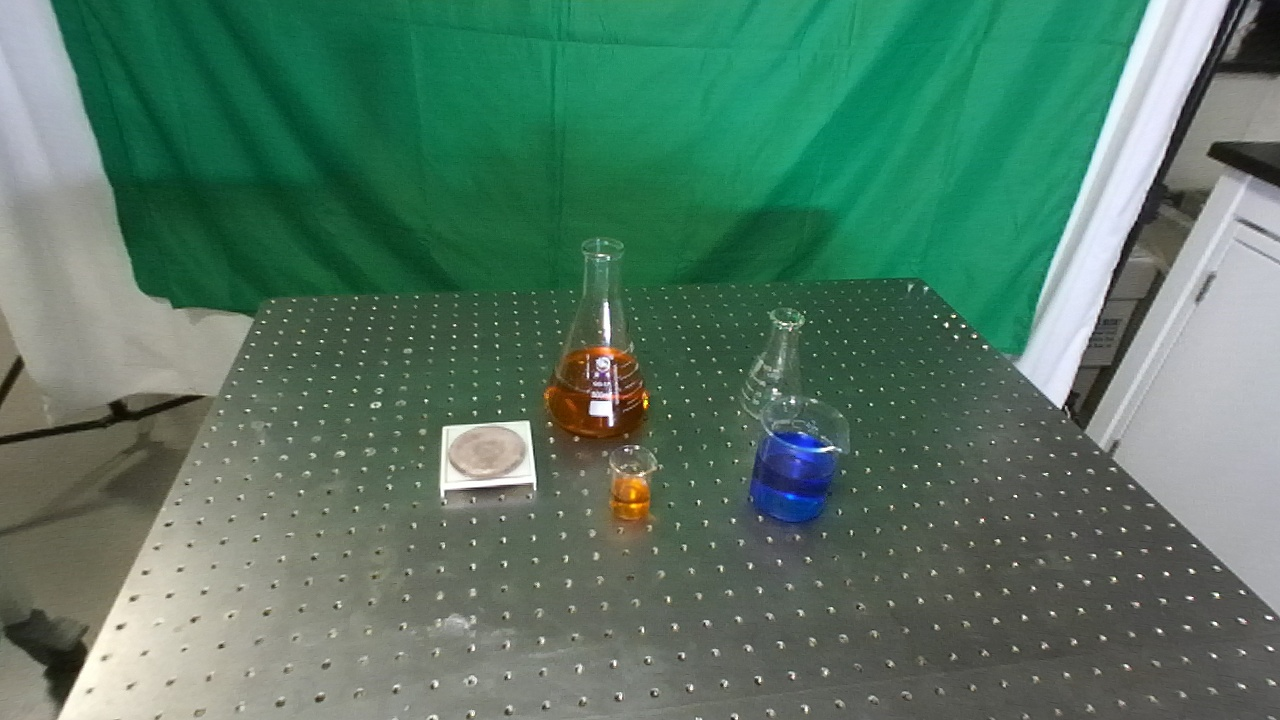glass: (540, 233, 654, 441), (745, 393, 856, 531), (741, 304, 817, 424), (603, 439, 667, 536)
plate: (436, 414, 539, 505)
